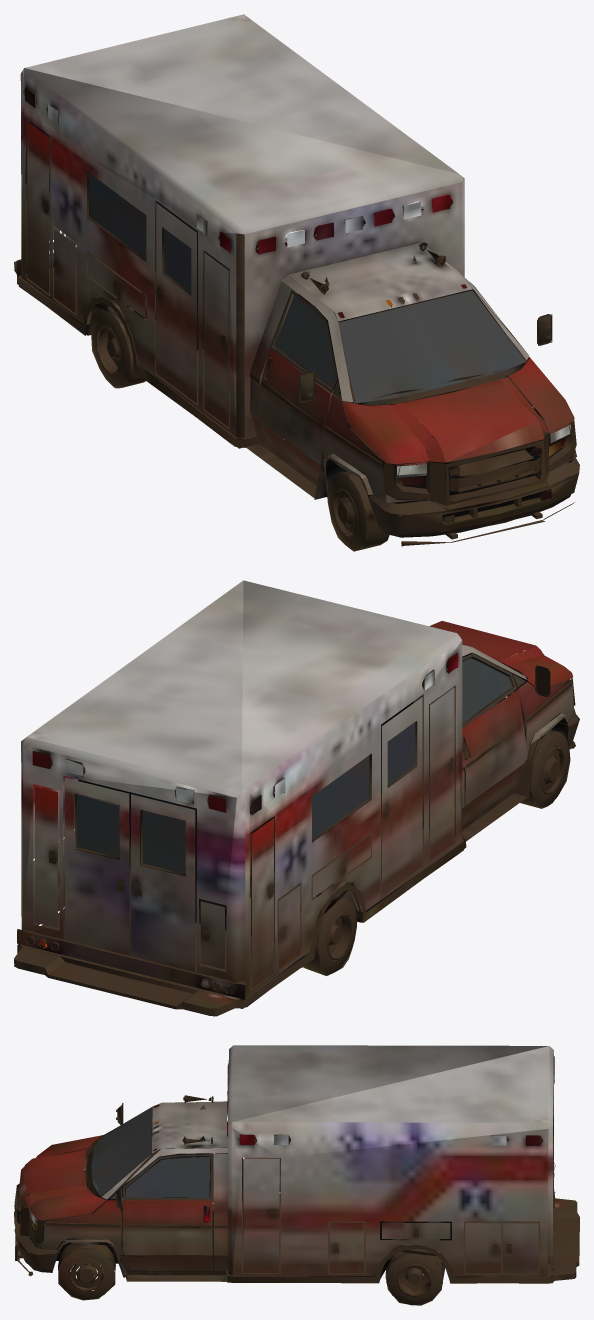
Rendered from pack-ambulance-L3.glb.
3 renders of one model, top to bottom at view 1: azimuth 30°, elevation 25°; view 2: azimuth 150°, elevation 25°; view 3: azimuth 270°, elevation 25°, orthographic. The views are drawn at different scales.
Visible parts, largest first — view 1: body; view 2: body; view 3: body.
Boxes of the visible parts, x1,y1,x2,y2 form: body: [14, 14, 579, 551]; body: [14, 580, 579, 1016]; body: [14, 1045, 579, 1305].
Bounding box in the file's own units: 2.59 × 2.46 × 6.91.
Materials: 1 (1 with a texture image).
